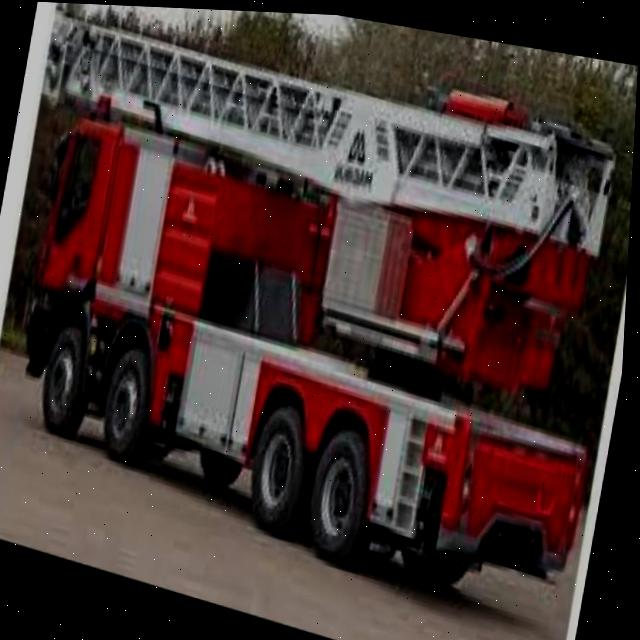emergency: (0, 105, 636, 600)
